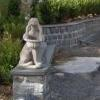Statue: (14, 7, 54, 84)
